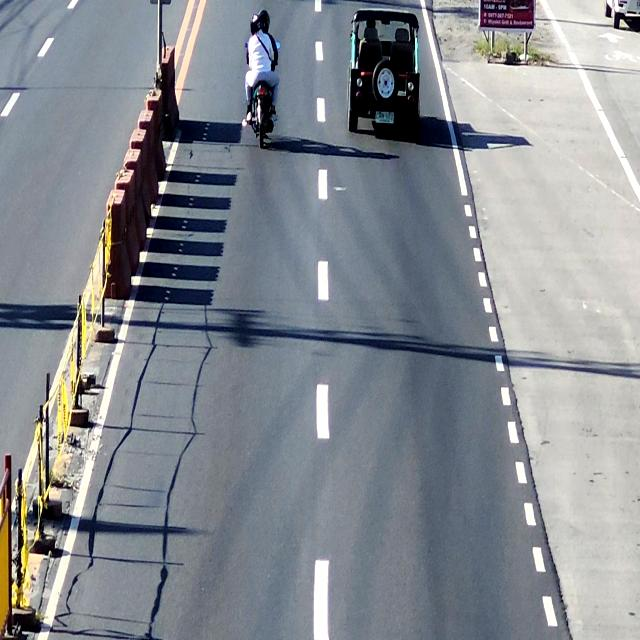Jeep: (349, 7, 424, 138)
License-Plate: (375, 106, 395, 125)
Motorcycle: (246, 8, 280, 152)
